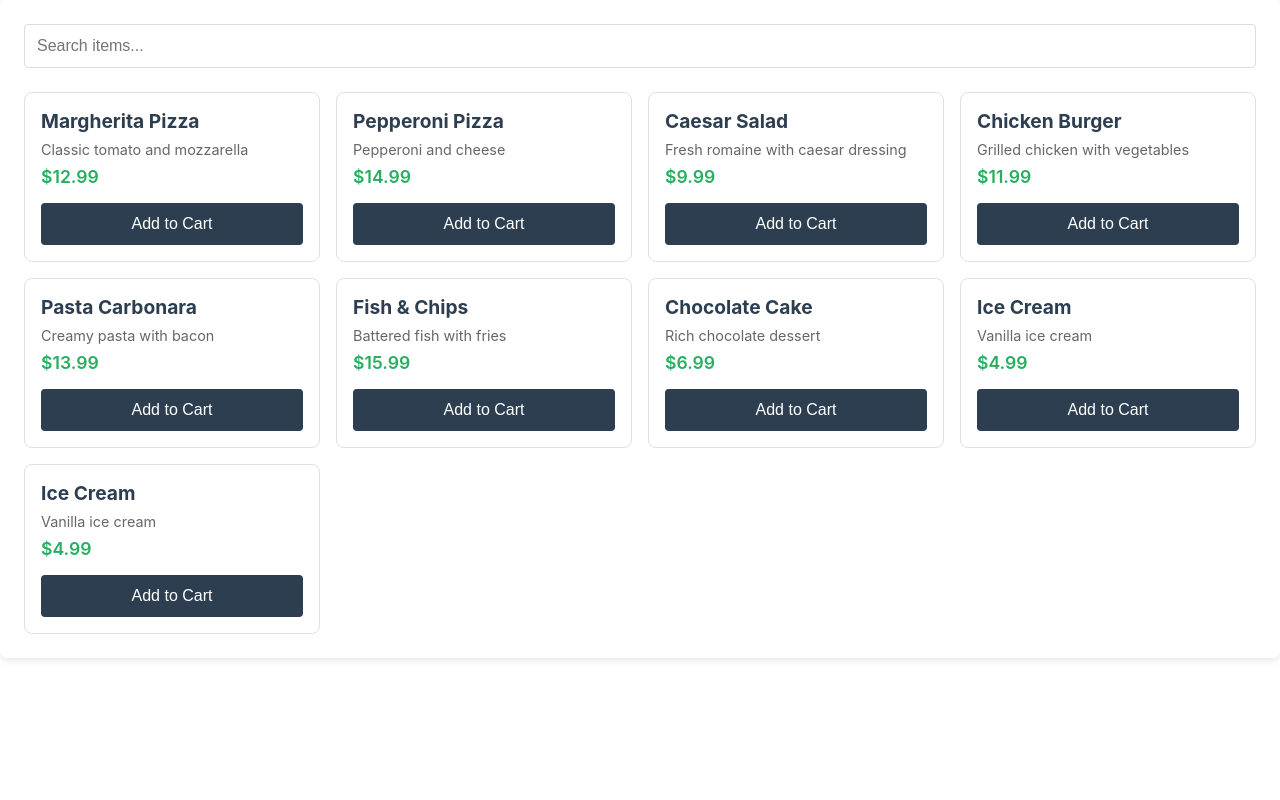
ItemList › filters items based on search term
Type "pizza" into the field with placeholder "Search items..." at (640, 46), box [24,24,1256,68]
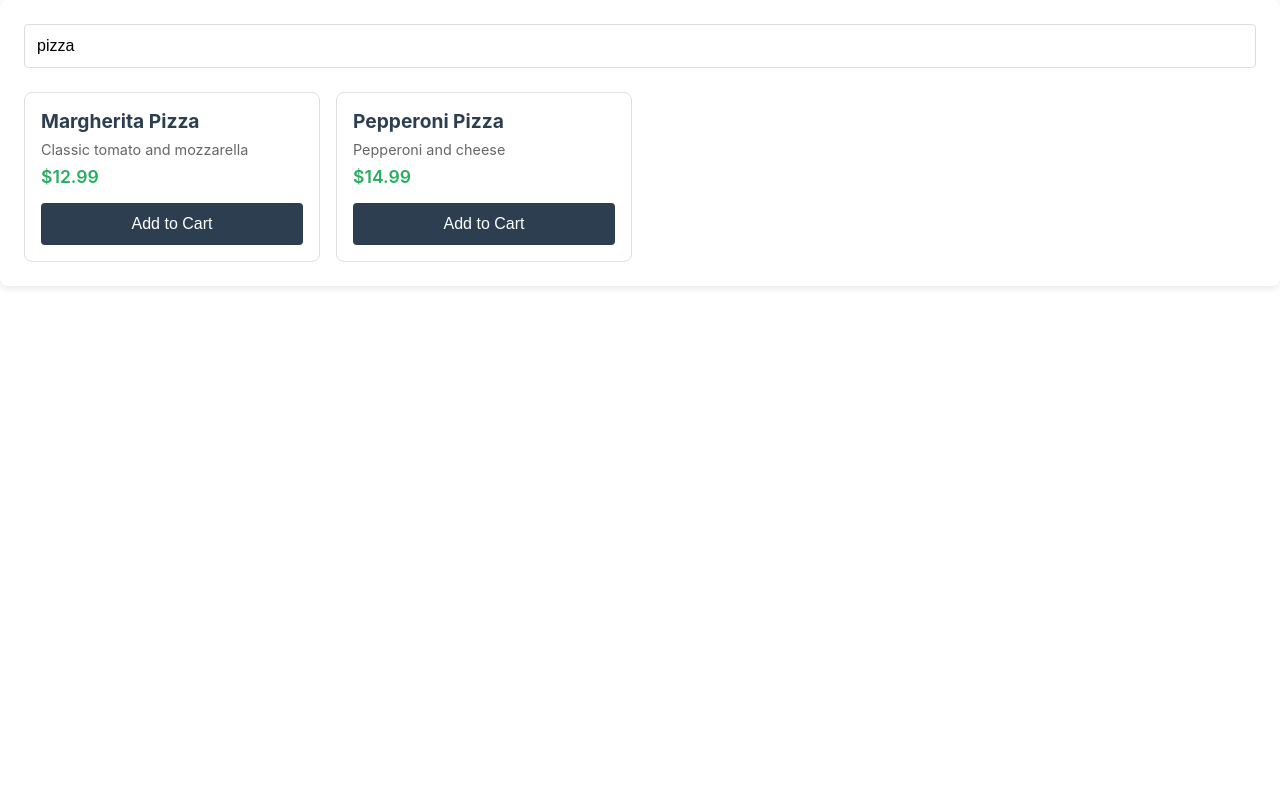
Expected: the heading "Margherita Pizza" is shown, [41,109,200,133]
Expected: the heading "Caesar Salad" is gone
